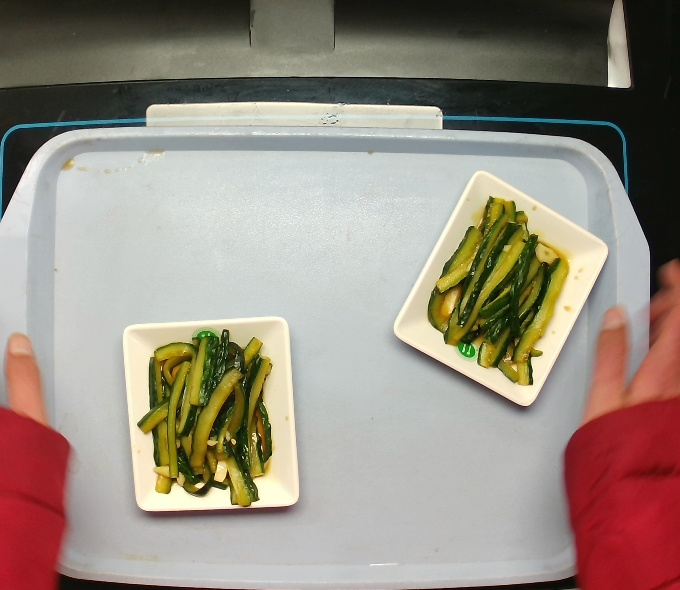wcq-LiangBanHuangGua: (425, 194, 572, 388), (135, 327, 274, 510)
